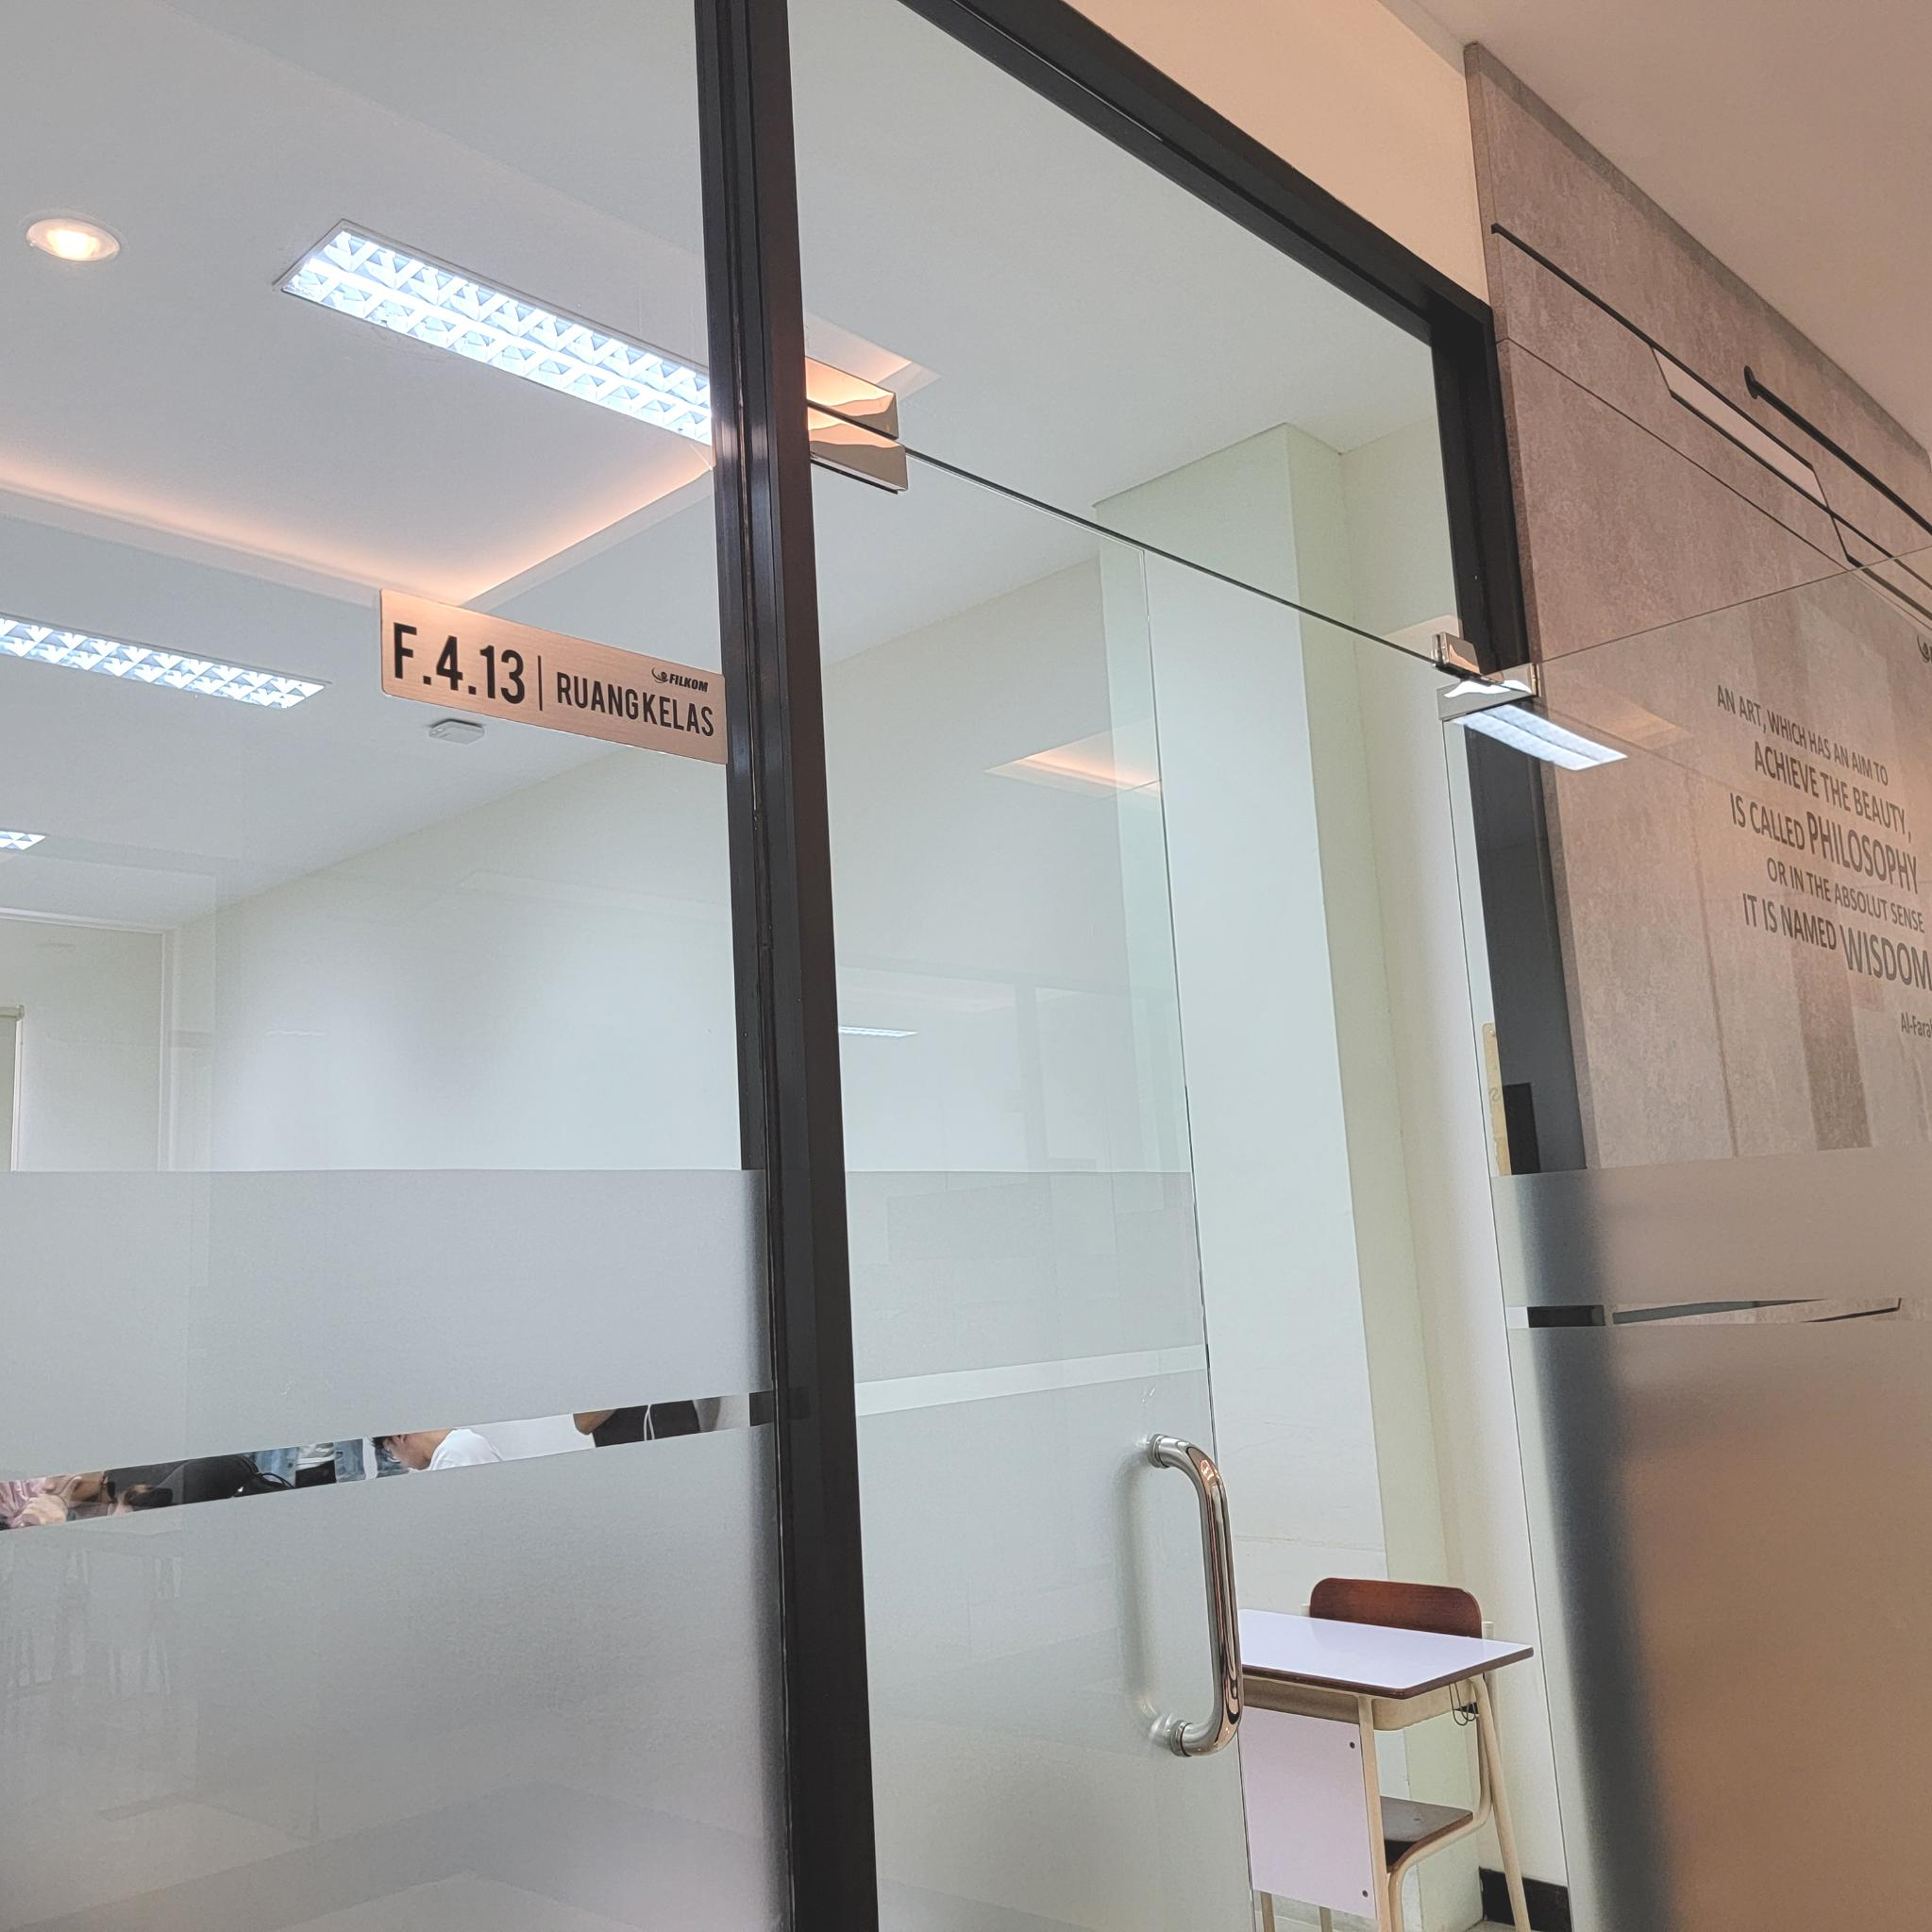plate: (380, 586, 731, 768)
